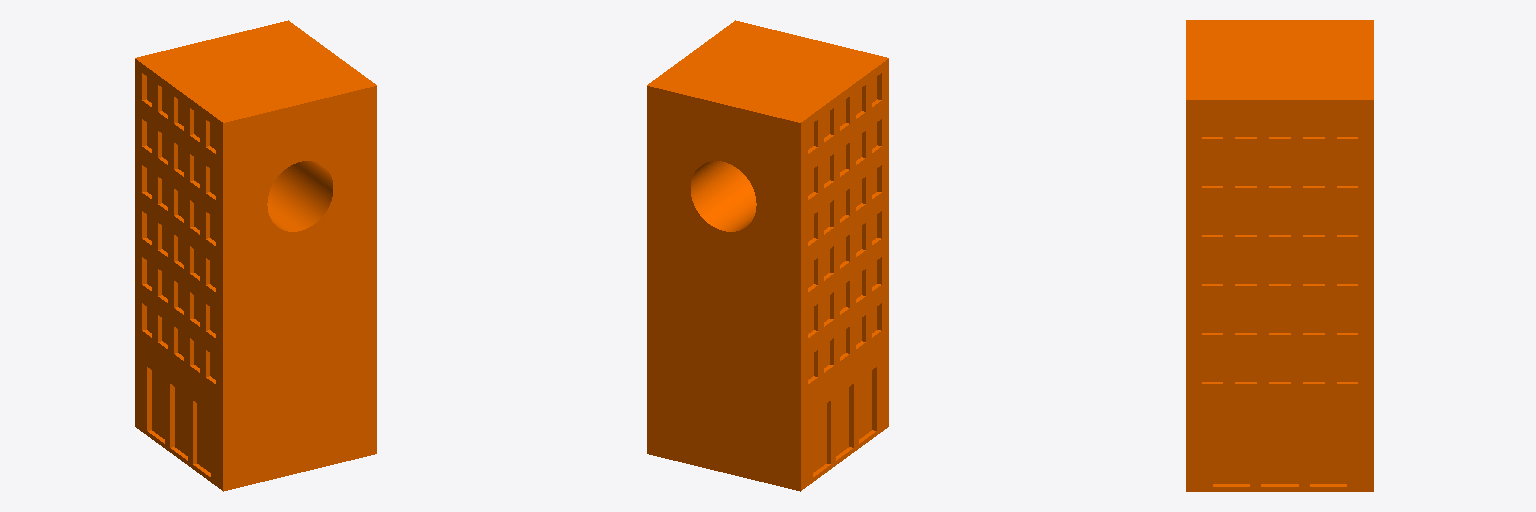
The robot description file, URDF, robot "cube.urdf":
<?xml version="1.0" ?>
<robot name="cube.urdf">
    <link name="legobrick">
        <contact>
            <lateral_friction value="1.0"/>
            <rolling_friction value="0.0"/>
            <contact_cfm value="0.0"/>
            <contact_erp value="1.0"/>
        </contact>
        <inertial>
            <origin rpy="0 0 0" xyz="0.0 0.0 0.0"/>
            <mass value="0.1"/>
            <inertia ixx="1" ixy="0" ixz="0" iyy="1" iyz="0" izz="1"/>
        </inertial>
        <visual>
            <origin rpy="1.570796 0 0" xyz="-0.001152925257731959 0.014222730670103094 -0.006989078608247398"/>
            <geometry>
                <mesh filename="Bridge_Flat.obj" scale="0.001 0.001 0.001"/>
            </geometry>
            <material name="yellow">
                <color rgba="1 0.4667 0 1"/>
            </material>
        </visual>
        <collision>
            <origin rpy="1.570796 0 0" xyz="-0.001152925257731959 0.014222730670103094 -0.006989078608247398"/>
            <geometry>
                <mesh filename="Bridge_Flat.obj" scale="0.001 0.001 0.001"/>
            </geometry>
        </collision>
    </link>
</robot>

--- Render facts (derived) ---
Views: 3 orthographic renders of the robot side by side, from view 1: azimuth 30°, elevation 25°; view 2: azimuth 150°, elevation 25°; view 3: azimuth 270°, elevation 25°.
Model cube.urdf with 1 links and 0 joints (none), rooted at legobrick, posed all joints at 0.
Visible links, largest first — view 1: legobrick; view 2: legobrick; view 3: legobrick.
Link boxes in pixels (box(x1,y1,x2,y2)): legobrick: box(135, 20, 376, 491); legobrick: box(647, 20, 888, 491); legobrick: box(1186, 20, 1373, 491).
Bounding box of the posed robot: 0.035 × 0.035 × 0.08 m (x, y, z).
1 mesh visuals loaded from 1 distinct referenced files (1 OBJ).